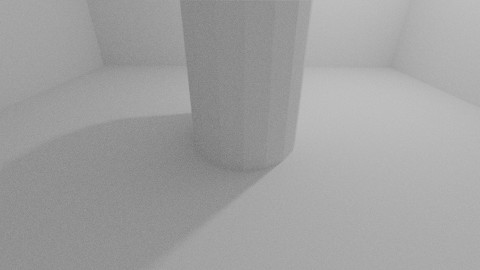cheminee: (180, 1, 313, 172)
